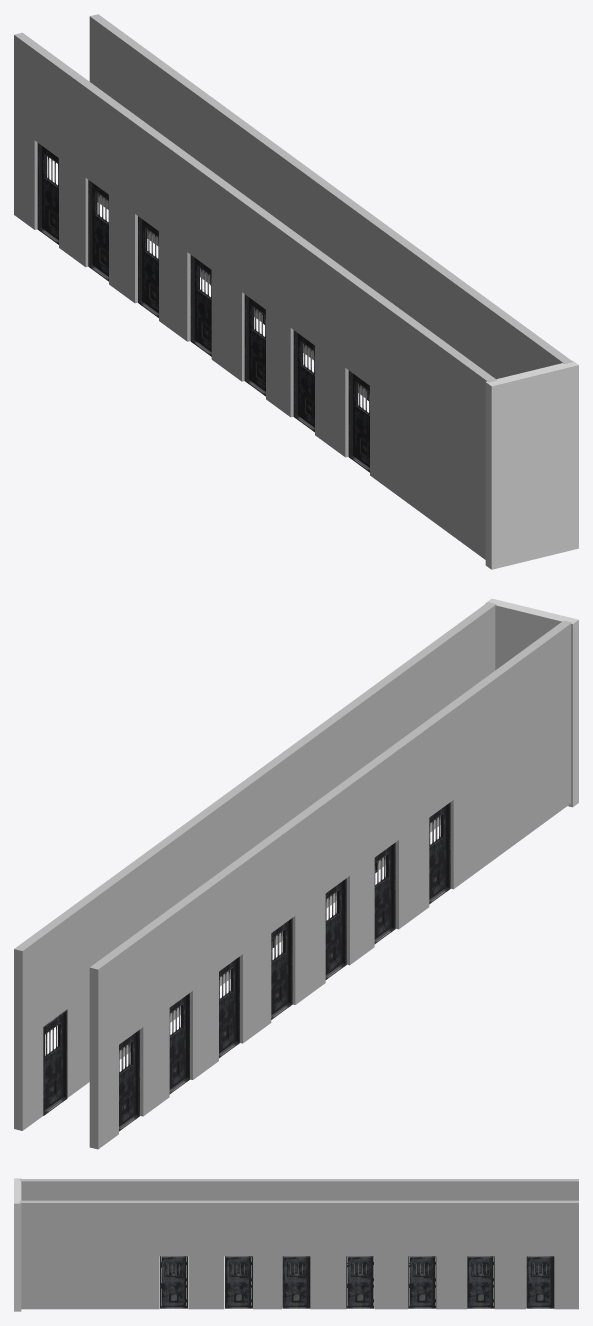
The model's file is floor1.fbx.
The picture shows the model from 3 angles, top to bottom: view 1: azimuth 30°, elevation 25°; view 2: azimuth 150°, elevation 25°; view 3: azimuth 270°, elevation 25°; orthographic projection. The views are drawn at different scales.
Parts seen in each view (by area): view 1: WallL1, WallL1.001, 立方体.001, prison_door_2_3.007, prison_door_2_3.010, prison_door_2_3.008, prison_door_2_3.009, prison_door_2_3.011, prison_door_2_3.012, prison_door_2_3.013; view 2: WallL1, WallL1.001, 立方体.001, prison_door_2_3.006, prison_door_2_3.010, prison_door_2_3.007, prison_door_2_3.009, prison_door_2_3.008, prison_door_2_3.013, prison_door_2_3.011, prison_door_2_3.012, prison_door_2_2.006; view 3: WallL1.001, WallL1, prison_door_2_3.006, prison_door_2_3.001, prison_door_2_3.004, prison_door_2_3, prison_door_2_3.005, prison_door_2_3.003, prison_door_2_3.002, 立方体.001, prison_door_2_2.004, prison_door_2_2.006 (+9 smaller).
Boxes of the visible parts, x1,y1,x2,y2 form: WallL1: (14,32,496,559); WallL1.001: (89,14,572,397); 立方体.001: (485,360,578,569); prison_door_2_3.007: (194,258,211,351); prison_door_2_3.010: (353,373,369,467); prison_door_2_3.008: (249,297,265,391); prison_door_2_3.009: (298,333,314,427); prison_door_2_3.011: (142,219,158,313); prison_door_2_3.012: (92,183,108,276); prison_door_2_3.013: (42,146,58,240); WallL1: (89,620,571,1149); WallL1.001: (14,602,496,1130); 立方体.001: (485,598,578,807); prison_door_2_3.006: (44,1014,63,1110); prison_door_2_3.010: (429,805,446,899); prison_door_2_3.007: (271,921,288,1015); prison_door_2_3.009: (374,846,391,939); prison_door_2_3.008: (325,881,342,975); prison_door_2_3.013: (119,1033,135,1126); prison_door_2_3.011: (219,959,235,1053); prison_door_2_3.012: (169,996,185,1089); prison_door_2_2.006: (43,1009,67,1115); WallL1.001: (19,1200,578,1309); WallL1: (19,1179,578,1200); prison_door_2_3.006: (527,1256,553,1307); prison_door_2_3.001: (283,1256,309,1307); prison_door_2_3.004: (409,1256,435,1307); prison_door_2_3: (347,1256,373,1307); prison_door_2_3.005: (468,1256,493,1307); prison_door_2_3.003: (161,1256,186,1307); prison_door_2_3.002: (226,1256,251,1307); 立方体.001: (14,1178,21,1311); prison_door_2_2.004: (408,1256,436,1308); prison_door_2_2.006: (526,1256,554,1308).
Size of the model in its own units: 688 by 6546 by 1383.
